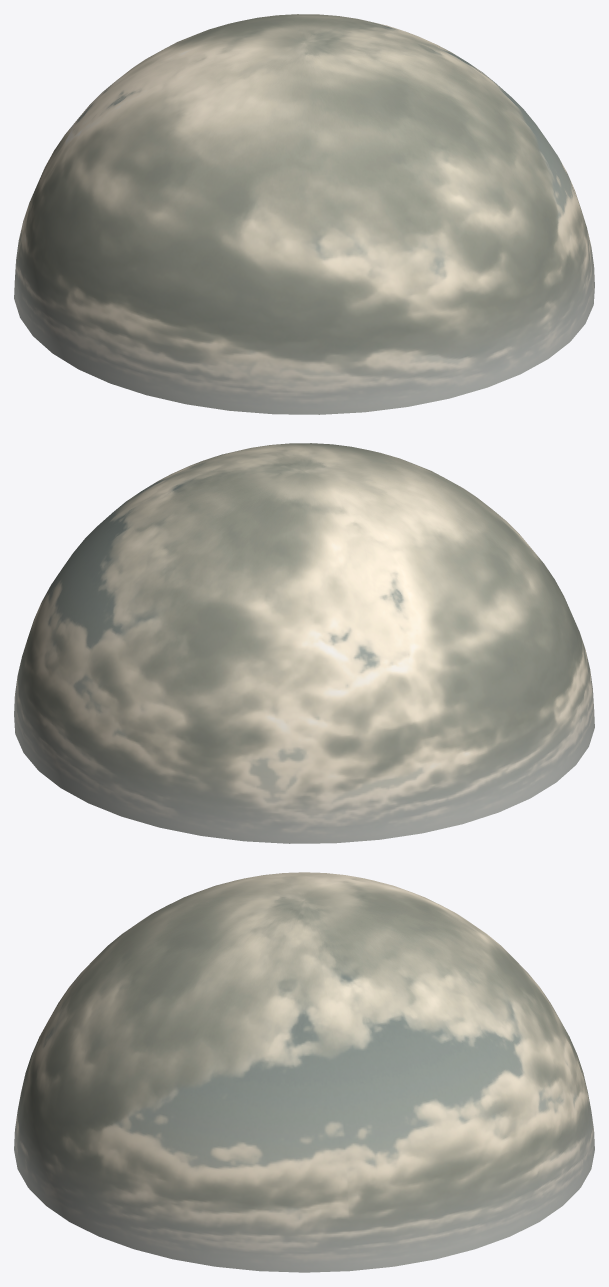
The model's file is EP1_sky03.fbx.
3 renders of one model, top to bottom at view 1: azimuth 30°, elevation 25°; view 2: azimuth 150°, elevation 25°; view 3: azimuth 270°, elevation 25°, orthographic.
Visible parts, largest first — view 1: sky03; view 2: sky03; view 3: sky03.
Boxes of the visible parts, left/top/right/bottom form: sky03: left=14, top=14, right=594, bottom=414; sky03: left=14, top=443, right=594, bottom=843; sky03: left=14, top=872, right=594, bottom=1272.
Bounding box in the file's own units: 800 × 378 × 800.
